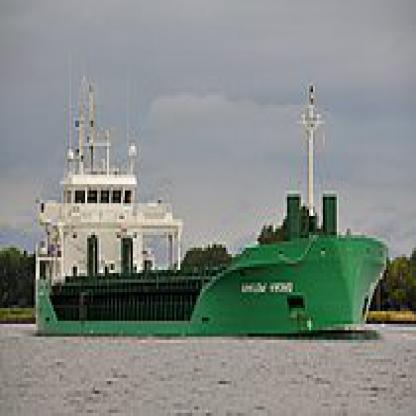Container Ship: (31, 70, 388, 337)
